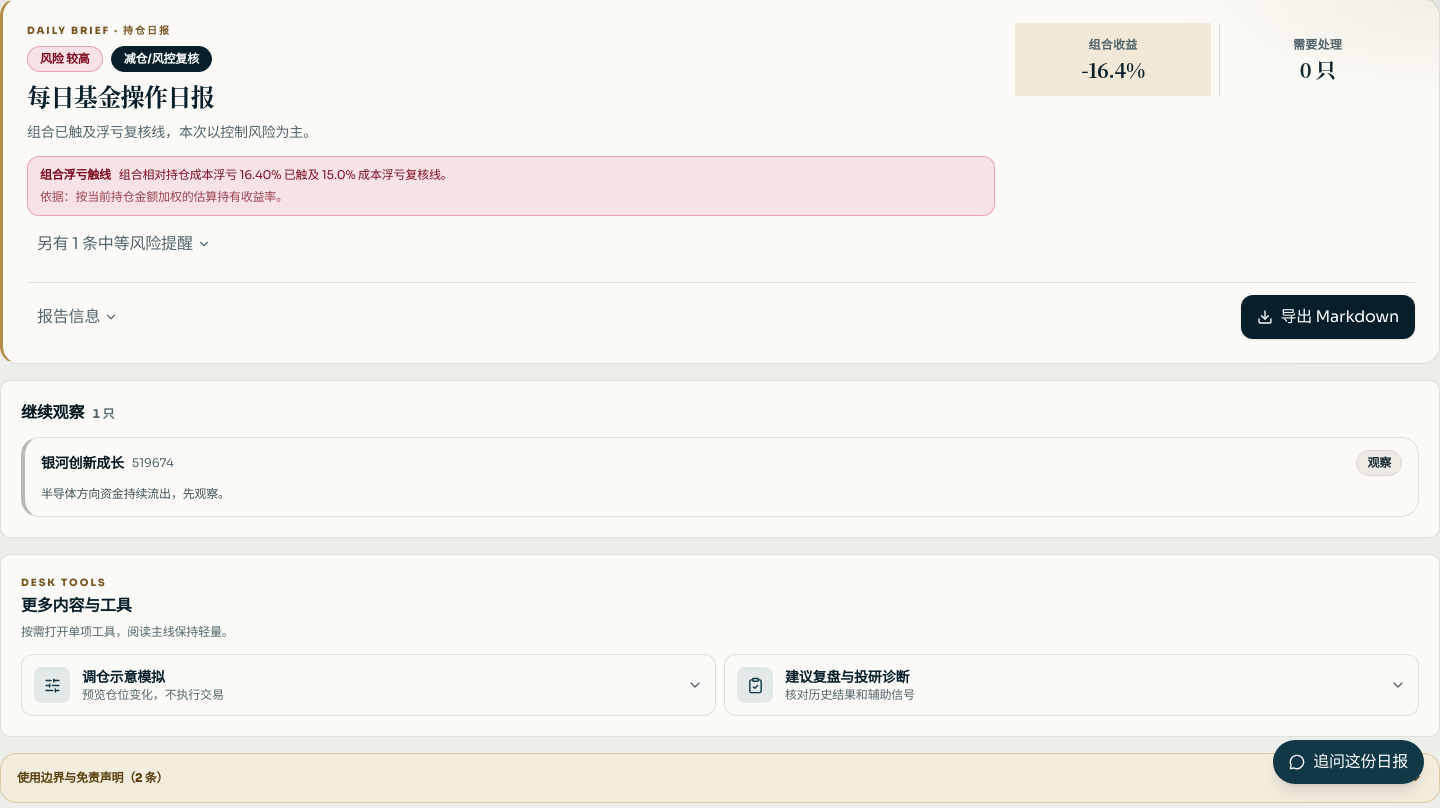
Test case: ReportPanel 方向退出判定 › 有发现基金买入记录时对齐买入当时的方向条件
This screenshot has width=1440, height=808.
Step 1. Click the button with aria-label "展开 银河创新成长" → (82, 463), box [25,438,1418,516]
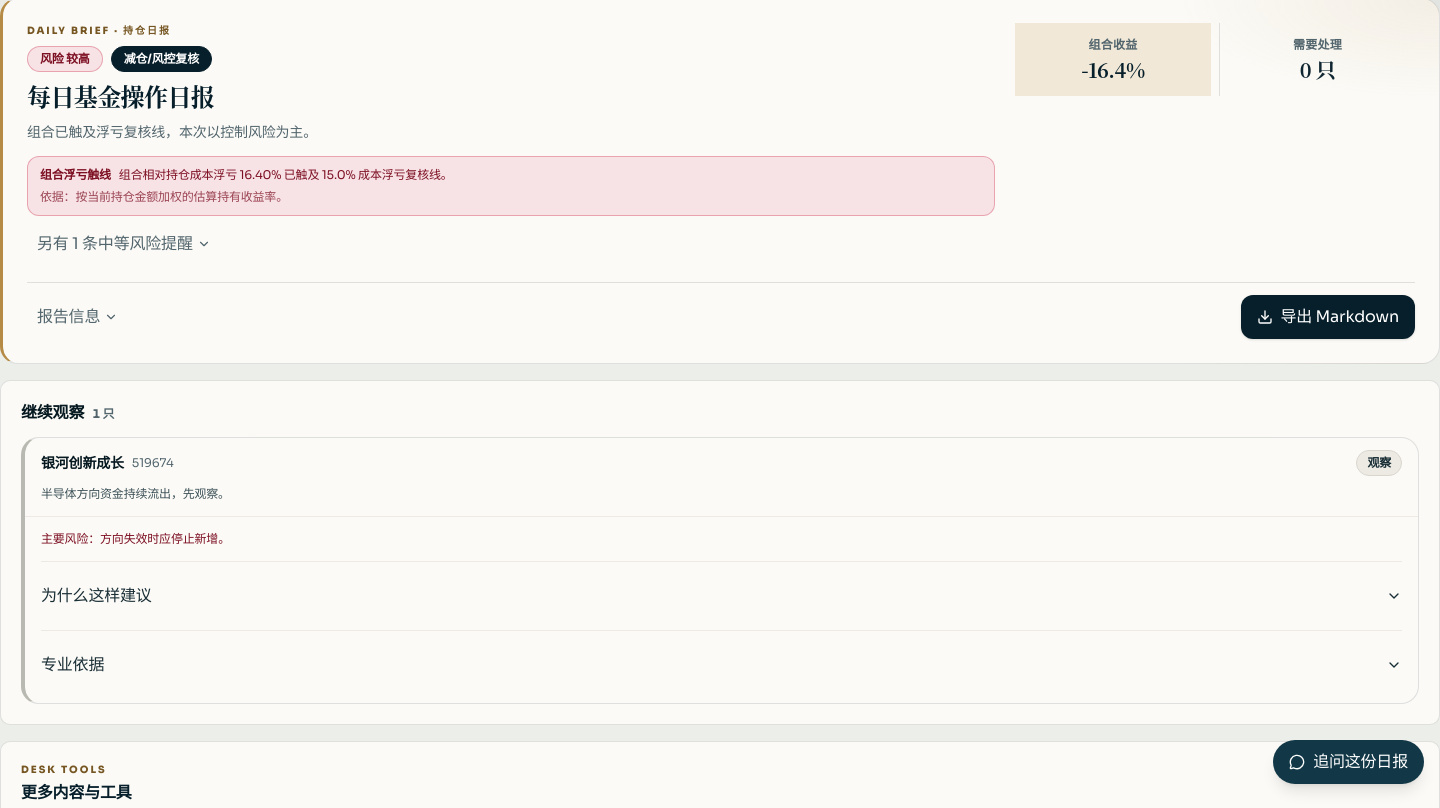
Step 2. Click the button "专业依据" → (73, 664), box [41,643,1402,687]
(page scrolled)
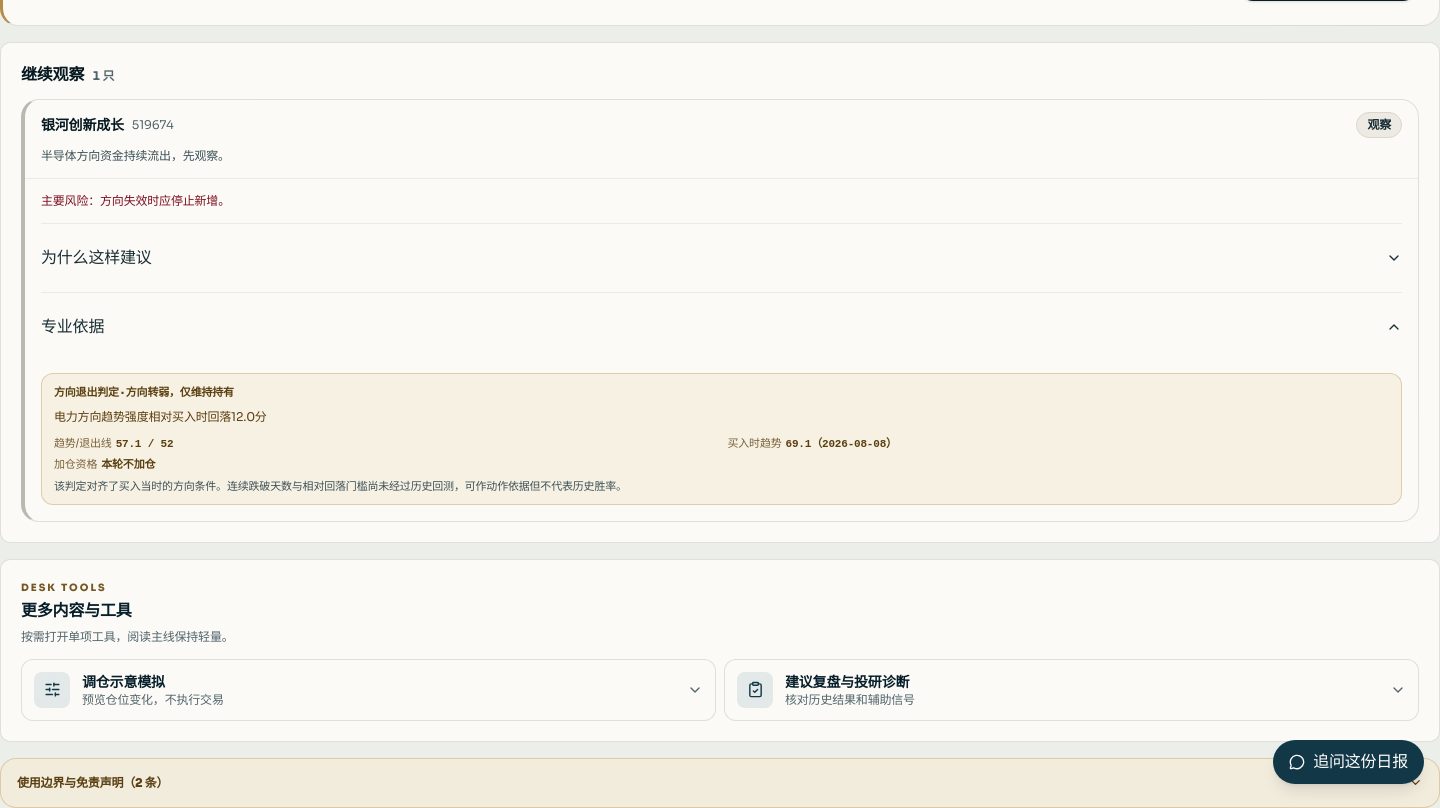
Result: the text "方向退出判定 · 方向转弱，仅维持持有" is shown at [54,385,234,399]
Result: the text "本轮不加仓" is shown at [101,456,155,472]
Result: the text "69.1（2026-08-08）" is shown at [786,436,897,452]
